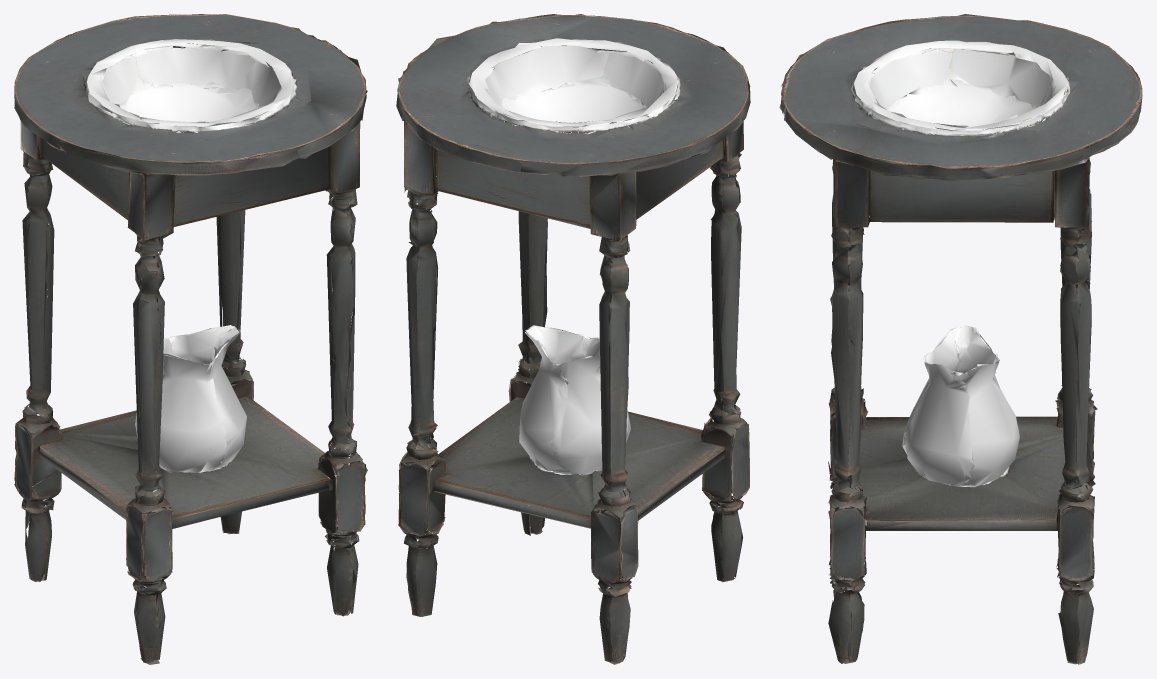
Rendered from washbasin-stand-interior-lod.glb.
3 views of the same model, side by side, from view 1: azimuth 30°, elevation 25°; view 2: azimuth 150°, elevation 25°; view 3: azimuth 270°, elevation 25° (orthographic). The views are drawn at different scales.
Parts seen in each view (by area): view 1: Mesh_0; view 2: Mesh_0; view 3: Mesh_0.
Part boxes in pixels (box(x1,y1,x2,y2)): Mesh_0: box(14, 14, 367, 664); Mesh_0: box(396, 14, 750, 664); Mesh_0: box(779, 14, 1142, 664).
Bounding box in the file's own units: 1.18 × 1.91 × 1.18.
1 material, 1 textured.
